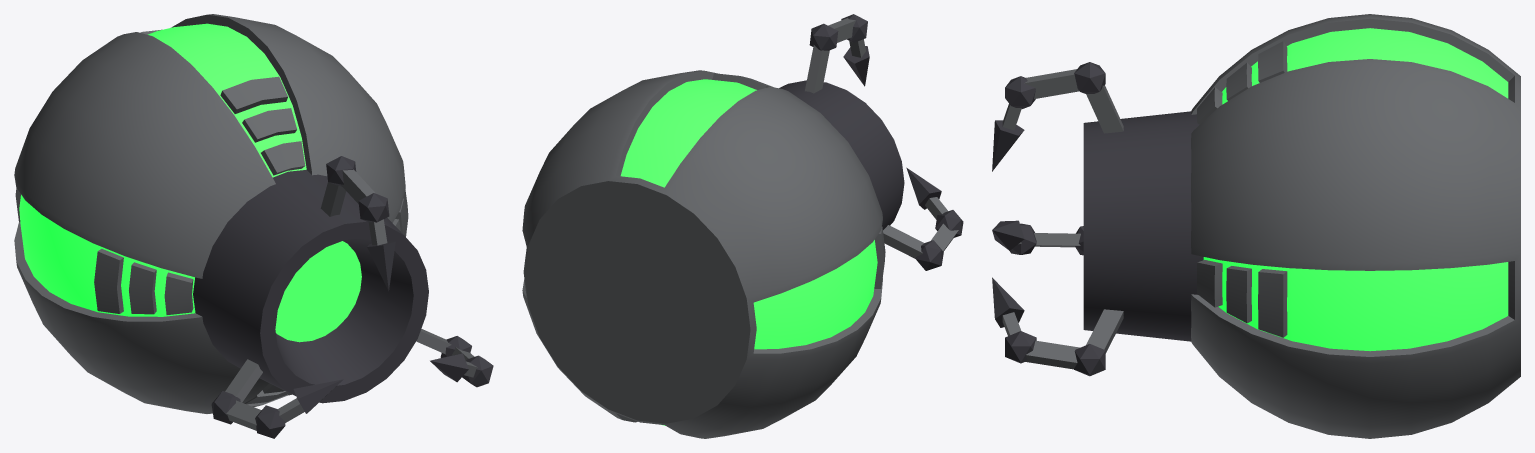
The model's file is Porthole Annihalator.fbx.
3 views of the same model, side by side, from view 1: azimuth 30°, elevation 25°; view 2: azimuth 150°, elevation 25°; view 3: azimuth 270°, elevation 25° (orthographic). The views are drawn at different scales.
Parts seen in each view (by area): view 1: Annihilator; view 2: Annihilator; view 3: Annihilator.
Part boxes in pixels (left/top/right/bottom): Annihilator: left=14, top=14, right=493, bottom=438; Annihilator: left=522, top=14, right=963, bottom=438; Annihilator: left=992, top=14, right=1520, bottom=438.
Size of the model in its own units: 194 by 194 by 248.
